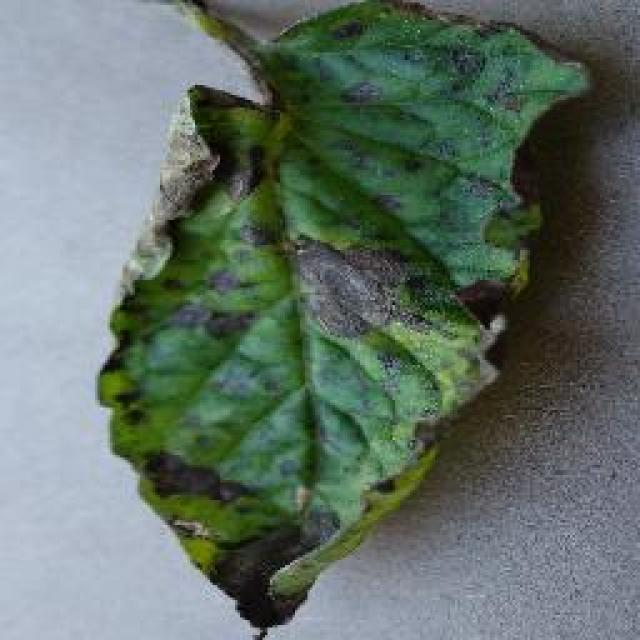leaf blight: (98, 0, 599, 624)
